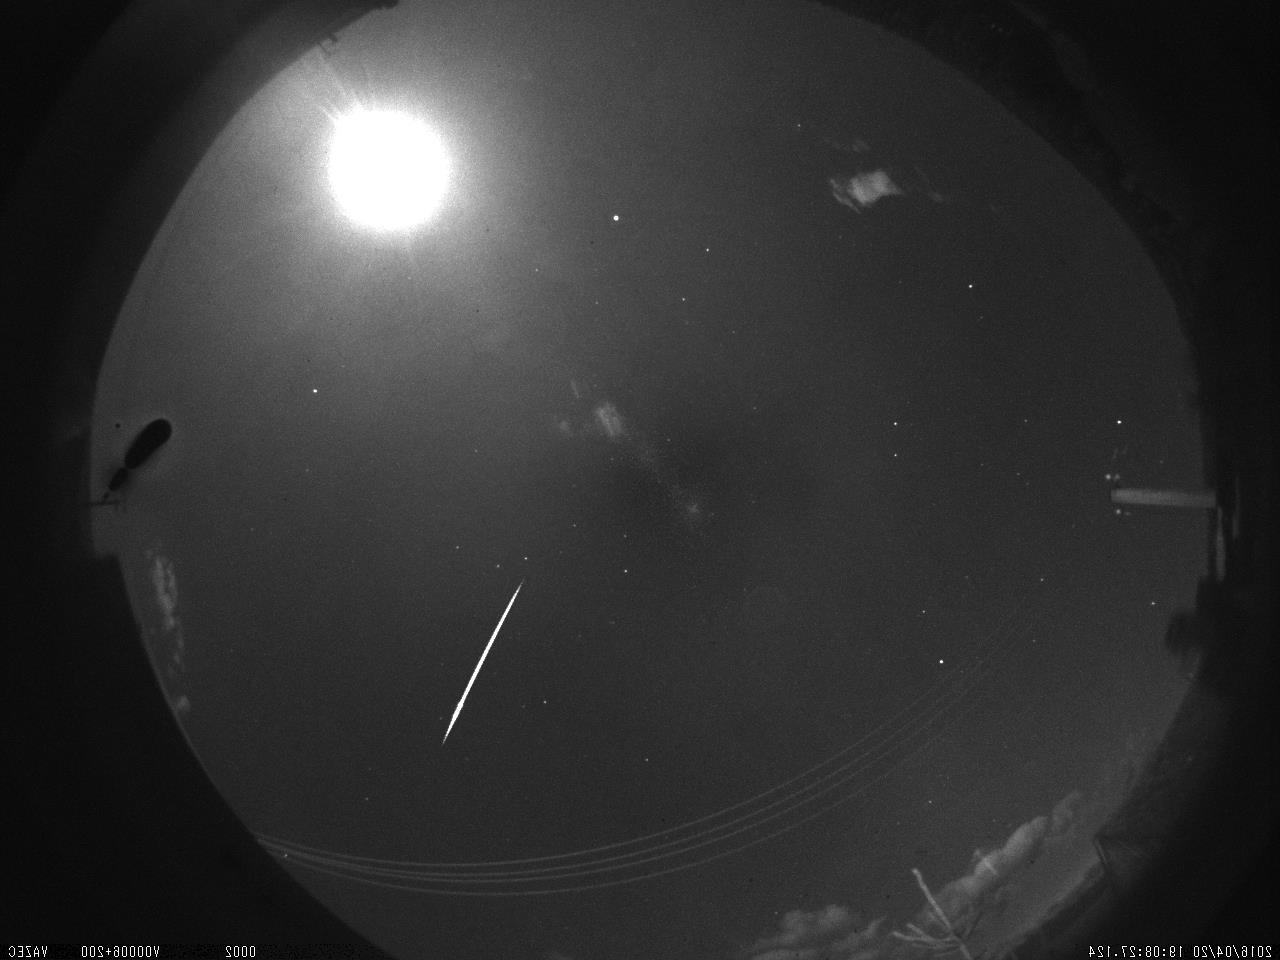meteor: (406, 554, 556, 766)
